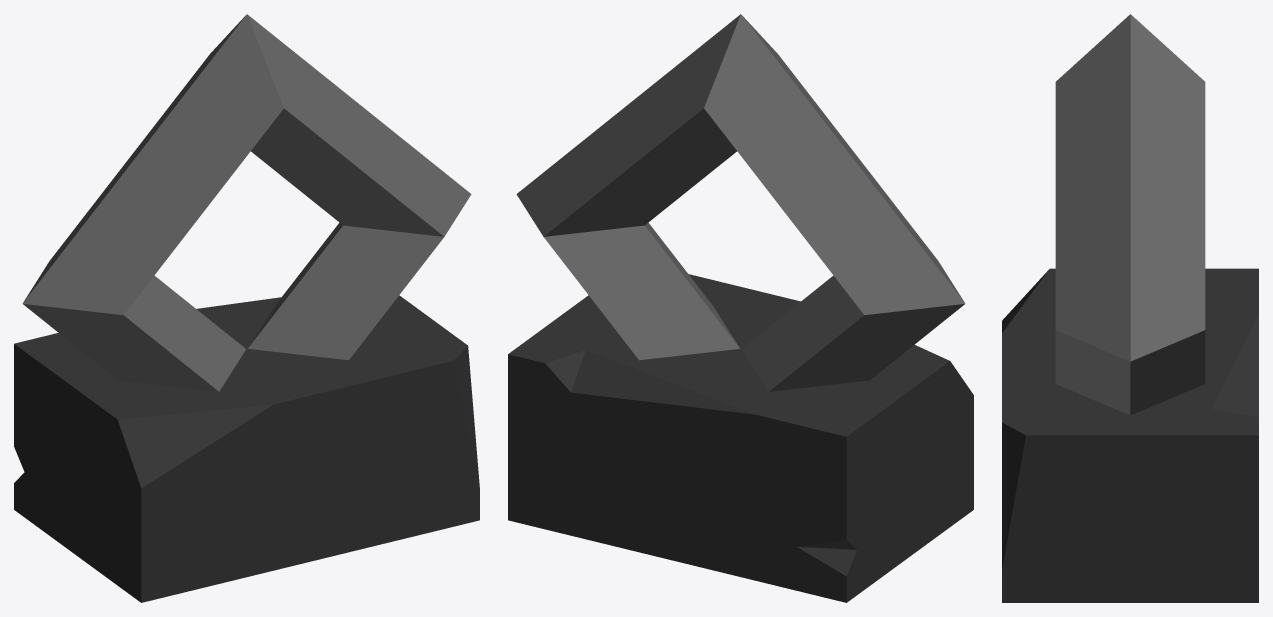
Rendered from HookSpot.fbx.
The picture shows the model from 3 angles, left to right: view 1: azimuth 30°, elevation 25°; view 2: azimuth 150°, elevation 25°; view 3: azimuth 270°, elevation 25°; orthographic projection.
Visible parts, largest first — view 1: HookSpot; view 2: HookSpot; view 3: HookSpot.
Part boxes in pixels (x1,y1,x2,y2): HookSpot: (14, 14, 479, 602); HookSpot: (508, 14, 973, 602); HookSpot: (1002, 14, 1258, 602).
Bounding box in the file's own units: 280 × 299 × 138.
